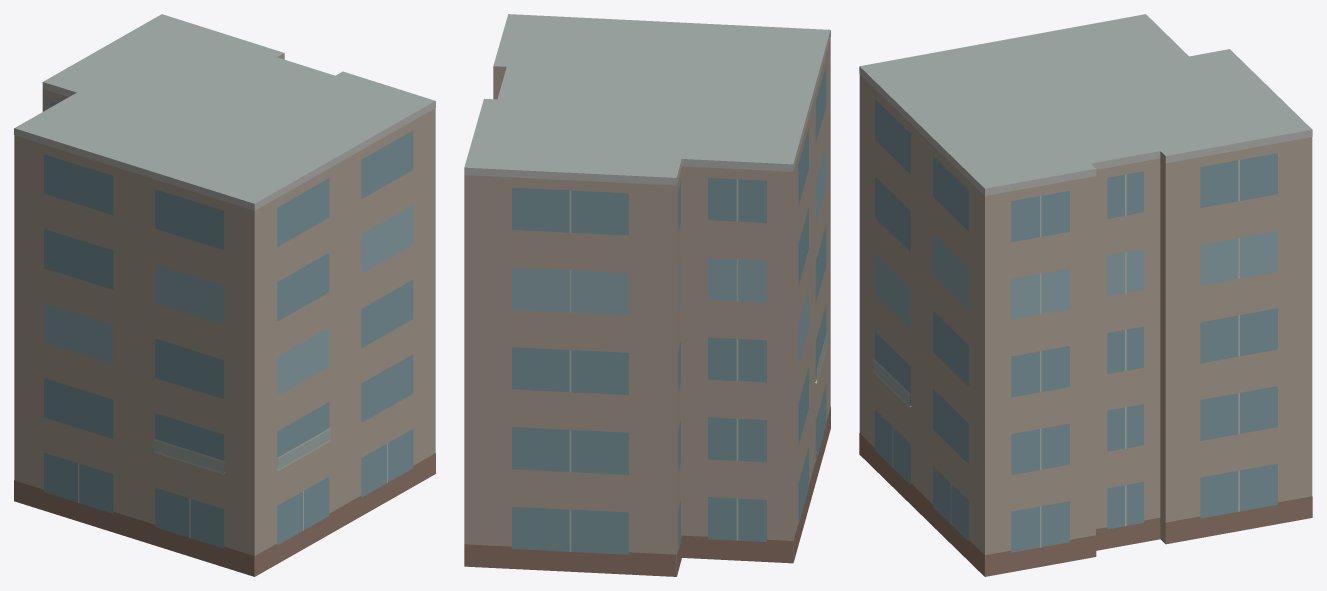
The model's file is survey-upis-32878530.glb.
3 renders of one model, left to right at view 1: azimuth 30°, elevation 25°; view 2: azimuth 150°, elevation 25°; view 3: azimuth 270°, elevation 25°, orthographic. The views are drawn at different scales.
Parts seen in each view (by area): view 1: survey-upis-32878530.tmp; view 2: survey-upis-32878530.tmp; view 3: survey-upis-32878530.tmp.
Part boxes in pixels (x1,y1,x2,y2): survey-upis-32878530.tmp: [14, 14, 435, 576]; survey-upis-32878530.tmp: [464, 14, 830, 576]; survey-upis-32878530.tmp: [859, 14, 1312, 576].
Size of the model in its own units: 12.56 by 13 by 13.76.
